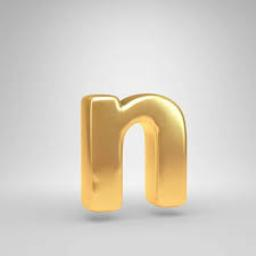n: (72, 82, 194, 216)
